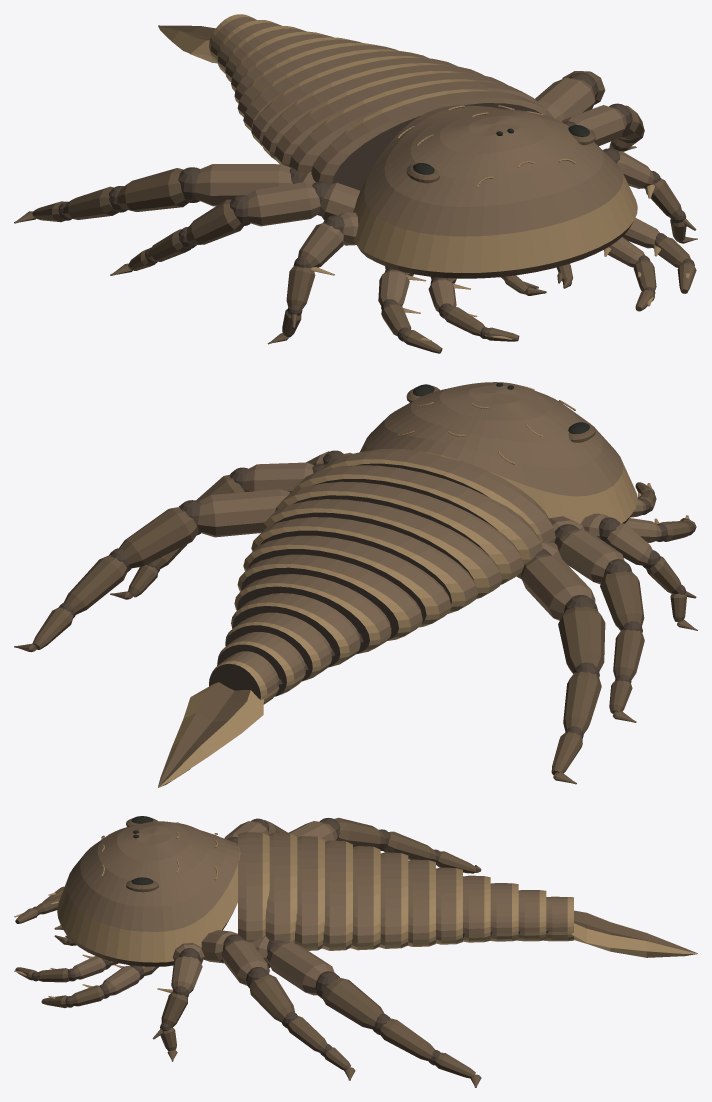
3 views of the same model, one above another, from view 1: azimuth 30°, elevation 25°; view 2: azimuth 150°, elevation 25°; view 3: azimuth 270°, elevation 25° (orthographic). The views are drawn at different scales.
Visible parts, largest first — view 1: hibbertopterus_export_surface; view 2: hibbertopterus_export_surface; view 3: hibbertopterus_export_surface.
Boxes of the visible parts, left/top/right/bottom form: hibbertopterus_export_surface: left=14, top=14, right=697, bottom=353; hibbertopterus_export_surface: left=14, top=382, right=697, bottom=787; hibbertopterus_export_surface: left=14, top=816, right=697, bottom=1087.
Size of the model in its own units: 0.2461 by 0.0744 by 0.3202.
